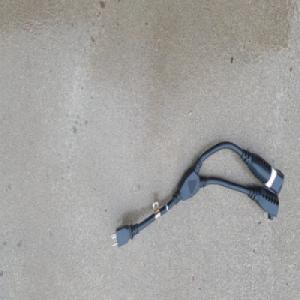Wire: (109, 139, 284, 249)
